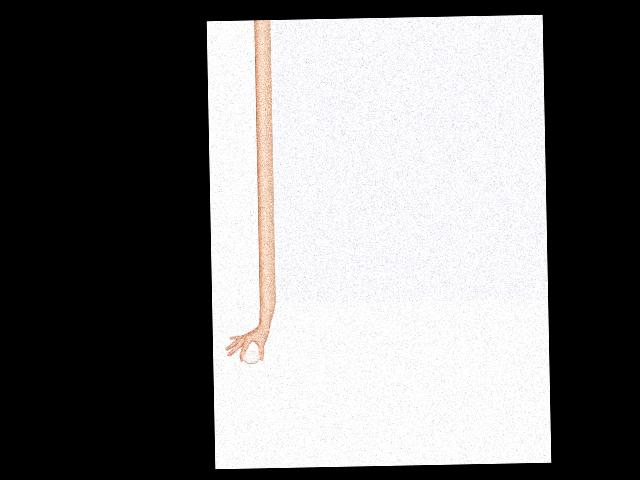egg: (243, 351, 260, 365)
